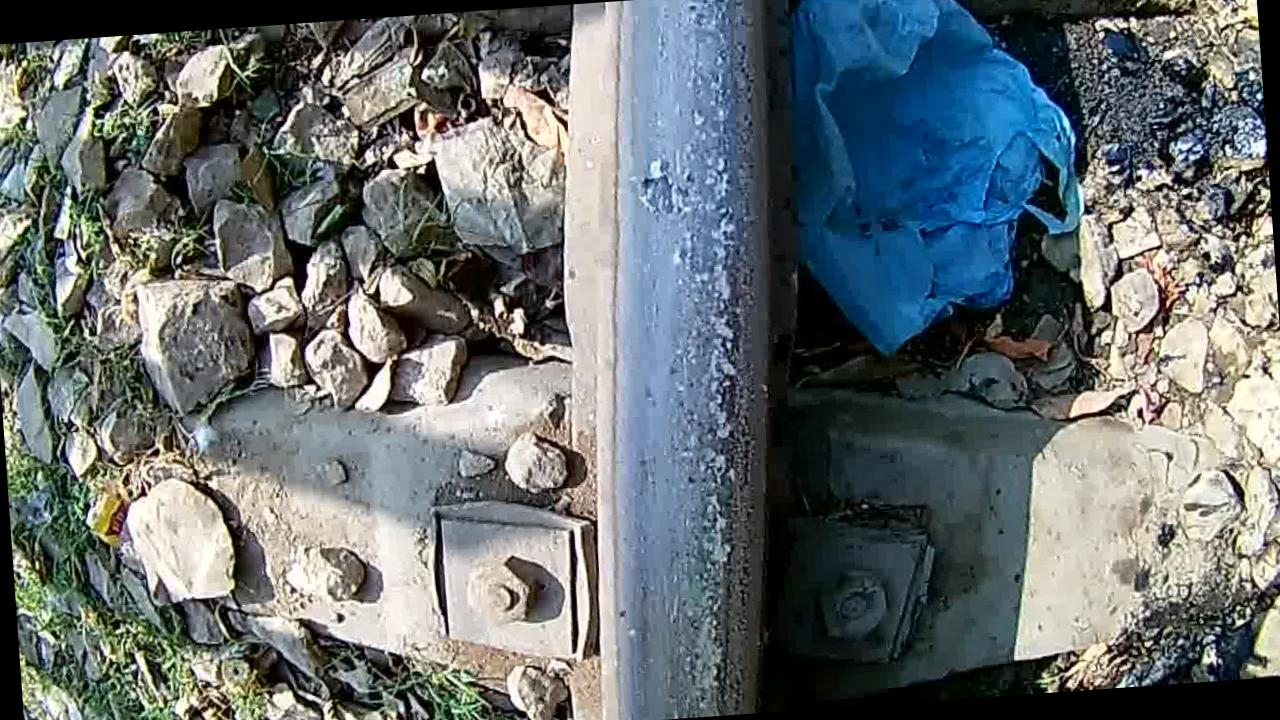crack: (592, 0, 805, 720)
